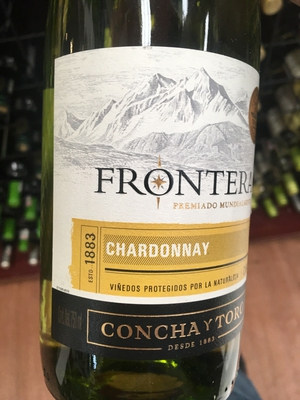frontera chardonnay: (41, 14, 280, 398)
